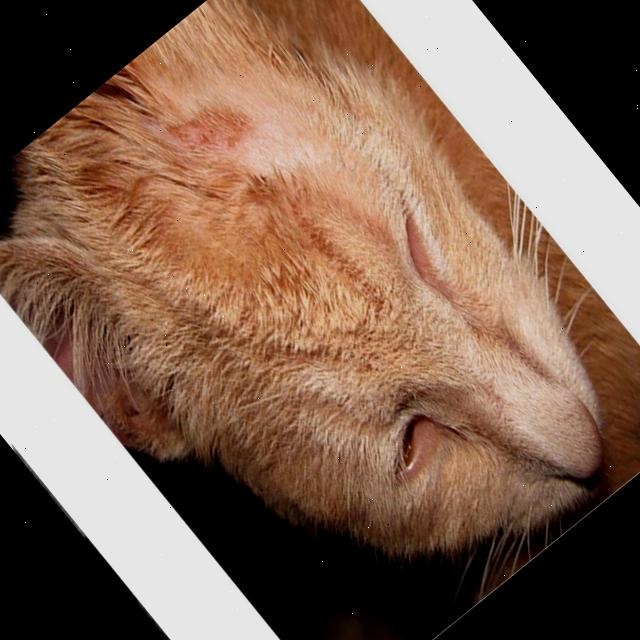cat-ringworm: (154, 72, 270, 186)
